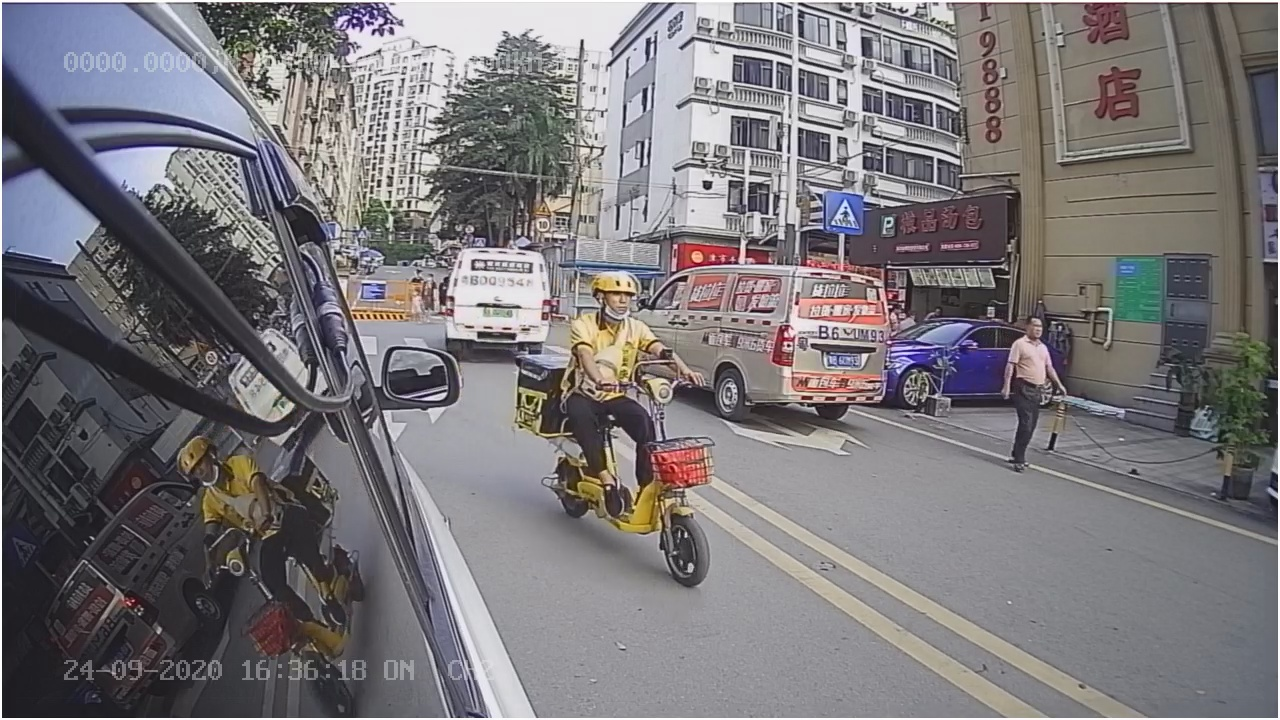person: (976, 308, 1074, 484)
